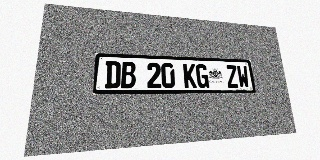0: (161, 63, 175, 88)
2: (147, 62, 161, 88)
B: (121, 61, 136, 88)
D: (104, 61, 121, 88)
G: (195, 64, 209, 88)
K: (183, 63, 197, 88)
W: (236, 65, 250, 88)
Z: (225, 65, 239, 88)
